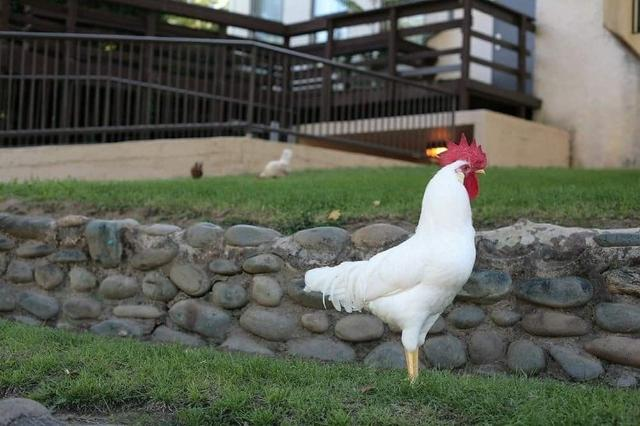Chicken: (303, 131, 488, 385)
